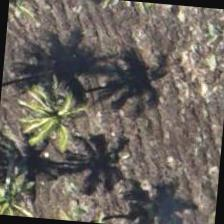Kelapa_Sawit: (2, 74, 100, 172), (0, 158, 60, 219)
